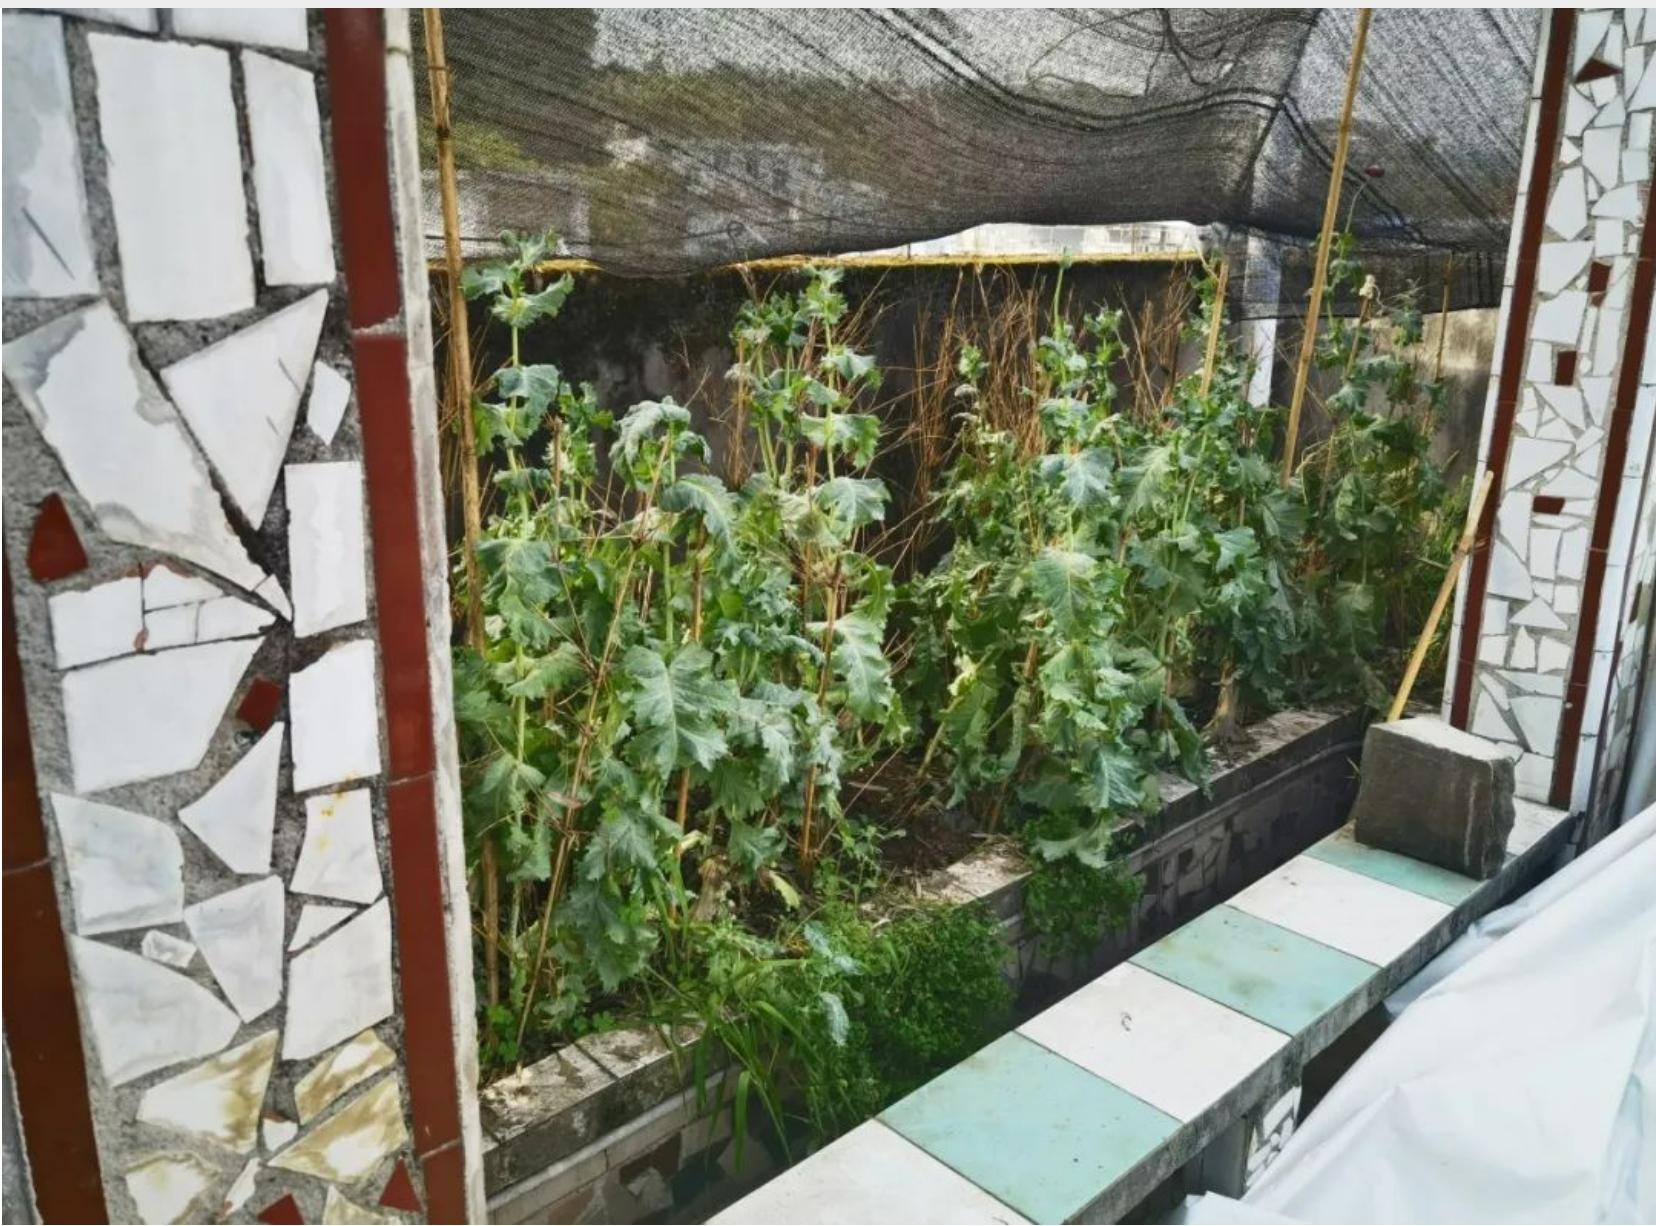Poppy: (446, 202, 910, 961), (918, 265, 1414, 822)
